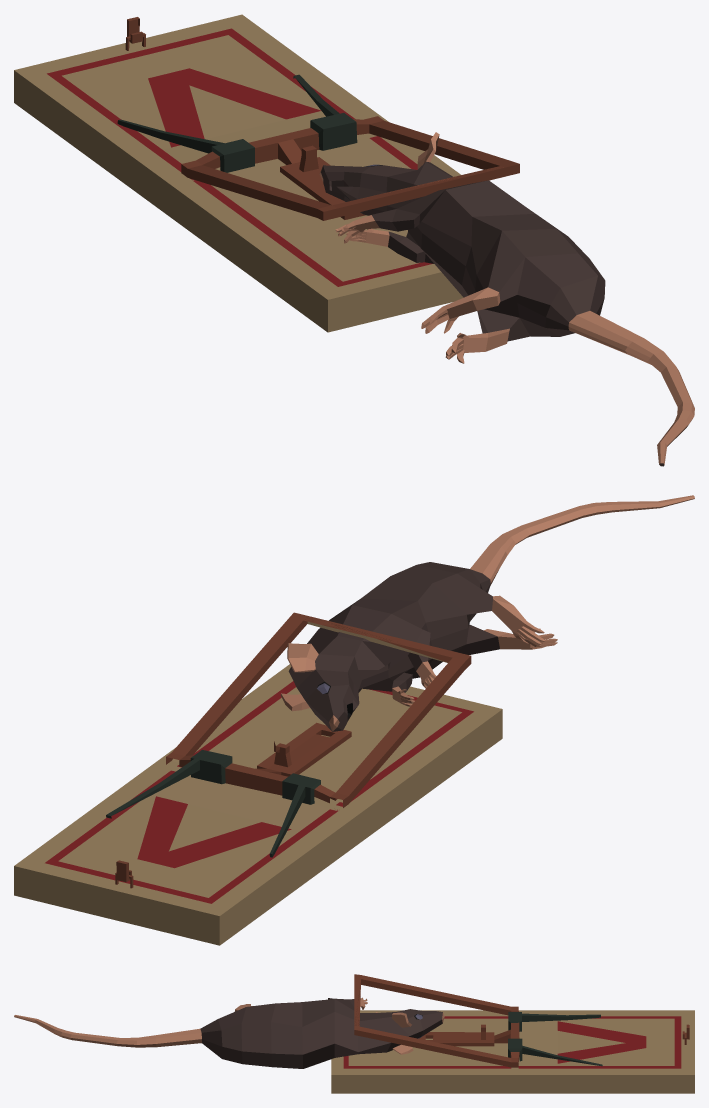
File: ratInTrap.fbx
3 renders of one model, top to bottom at view 1: azimuth 30°, elevation 25°; view 2: azimuth 150°, elevation 25°; view 3: azimuth 270°, elevation 25°, orthographic. The views are drawn at different scales.
Parts seen in each view (by area): view 1: trappedmouse; view 2: trappedmouse; view 3: trappedmouse.
Boxes of the visible parts, bbox=[...] form: trappedmouse: bbox=[14, 14, 694, 466]; trappedmouse: bbox=[14, 495, 694, 945]; trappedmouse: bbox=[14, 974, 694, 1093].
Bounding box in the file's own units: 303 × 141 × 1353.
